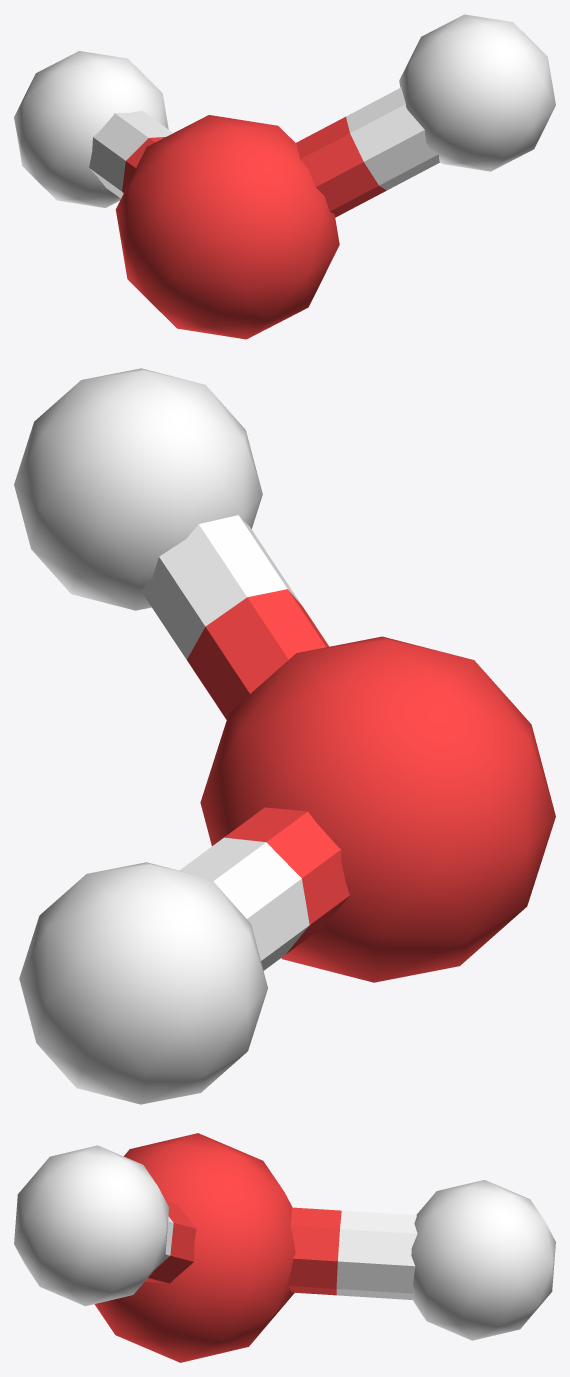
File: ice Sphere.fbx
3 renders of one model, top to bottom at view 1: azimuth 30°, elevation 25°; view 2: azimuth 150°, elevation 25°; view 3: azimuth 270°, elevation 25°, orthographic. The views are drawn at different scales.
Visible parts, largest first — view 1: Sphere_128; view 2: Sphere_128; view 3: Sphere_128.
Part boxes in pixels (x1,y1,x2,y2): Sphere_128: [14, 14, 555, 339]; Sphere_128: [14, 368, 555, 1104]; Sphere_128: [14, 1133, 555, 1362].
Bounding box in the file's own units: 150 × 114 × 188.
